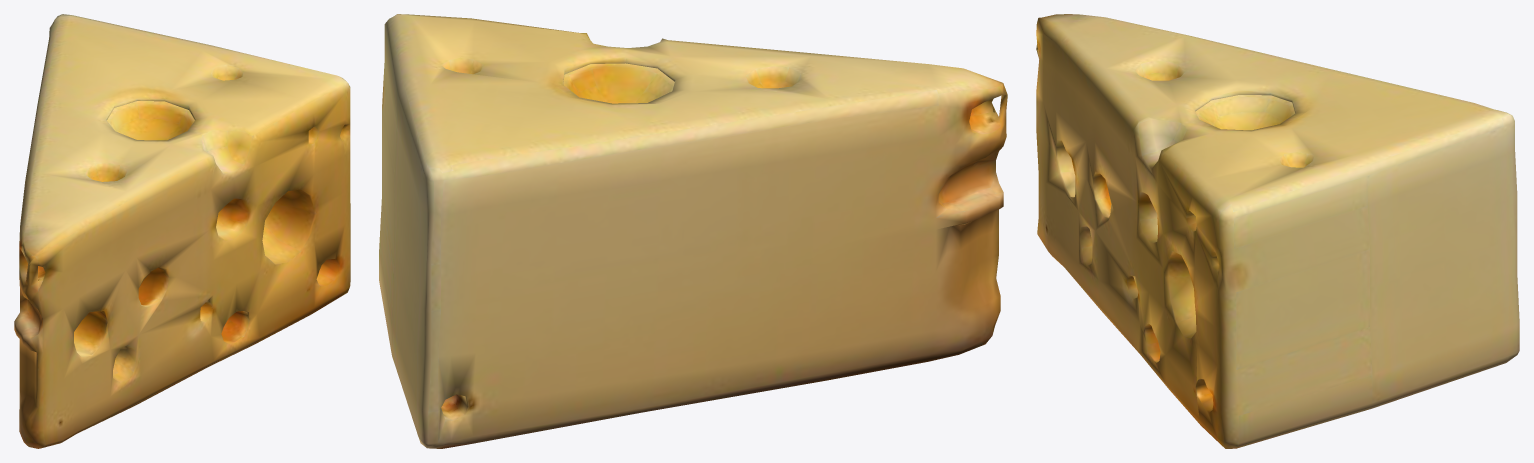
File: cheese.glb
3 renders of one model, left to right at view 1: azimuth 30°, elevation 25°; view 2: azimuth 150°, elevation 25°; view 3: azimuth 270°, elevation 25°, orthographic. The views are drawn at different scales.
Visible parts, largest first — view 1: Cheese; view 2: Cheese; view 3: Cheese.
Part boxes in pixels (box(x1,y1,x2,y2)): Cheese: box(14, 14, 350, 448); Cheese: box(379, 14, 1007, 448); Cheese: box(1036, 14, 1519, 448).
Bounding box in the file's own units: 1.62 × 0.894 × 1.5.
Materials: 1 (1 with a texture image).
